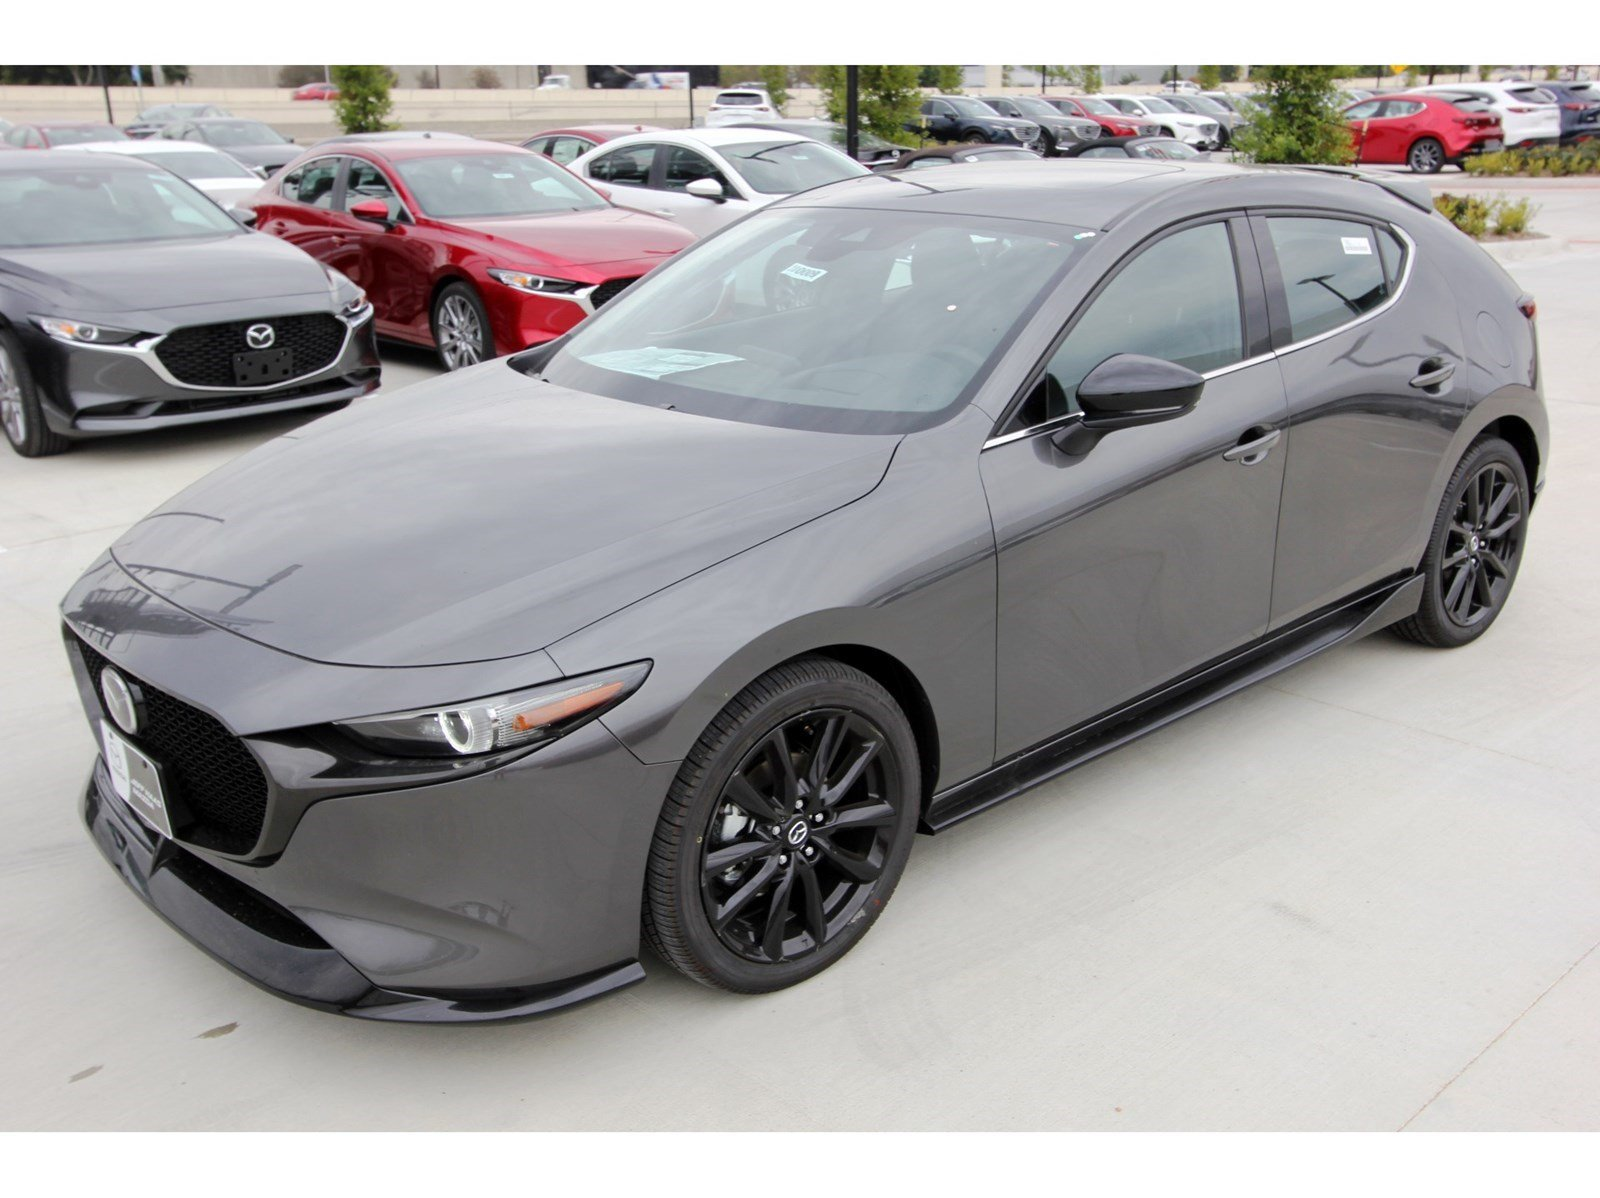Mazda3 Hatchback: (42, 152, 1564, 1055)
